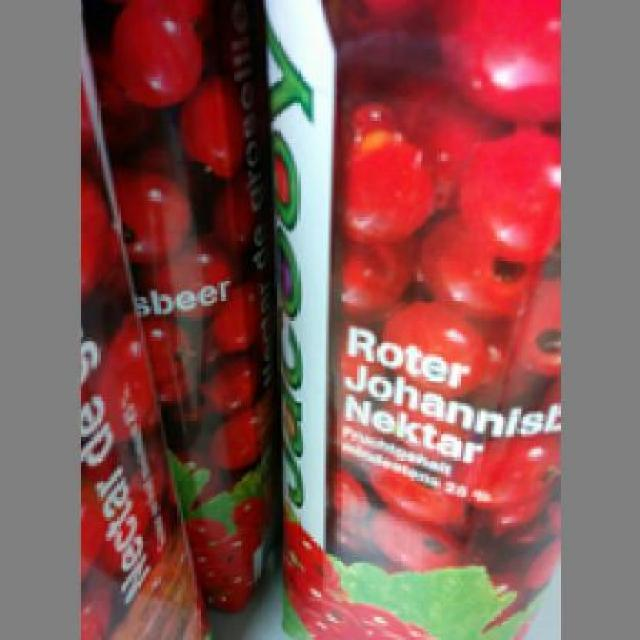Juice: (259, 2, 552, 638)
